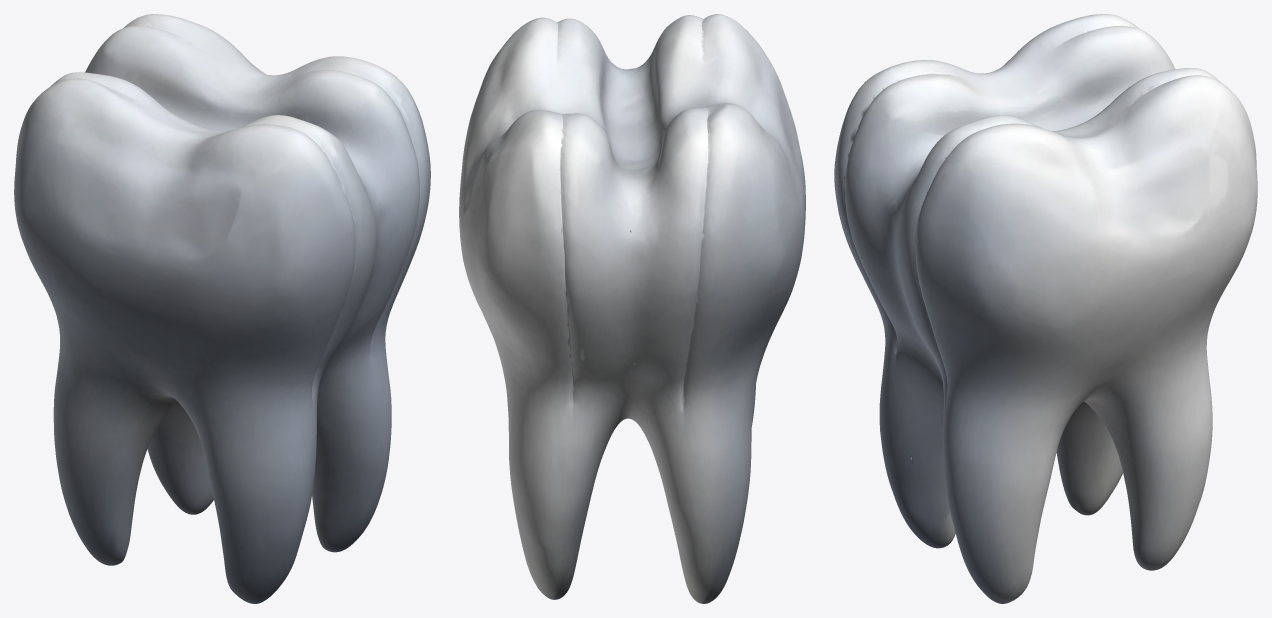
File: tooth.glb
3 renders of one model, left to right at view 1: azimuth 30°, elevation 25°; view 2: azimuth 150°, elevation 25°; view 3: azimuth 270°, elevation 25°, orthographic.
Parts seen in each view (by area): view 1: tripo_node_bf447966-7383-4f7c-ba0b-ad75f084831c; view 2: tripo_node_bf447966-7383-4f7c-ba0b-ad75f084831c; view 3: tripo_node_bf447966-7383-4f7c-ba0b-ad75f084831c.
Part boxes in pixels (<box>): tripo_node_bf447966-7383-4f7c-ba0b-ad75f084831c: <box>14,14,430,603</box>; tripo_node_bf447966-7383-4f7c-ba0b-ad75f084831c: <box>459,14,805,603</box>; tripo_node_bf447966-7383-4f7c-ba0b-ad75f084831c: <box>834,14,1257,603</box>.
Size of the model in its own units: 0.7453 by 1 by 0.7878.
Materials: 1 (1 with a texture image).
